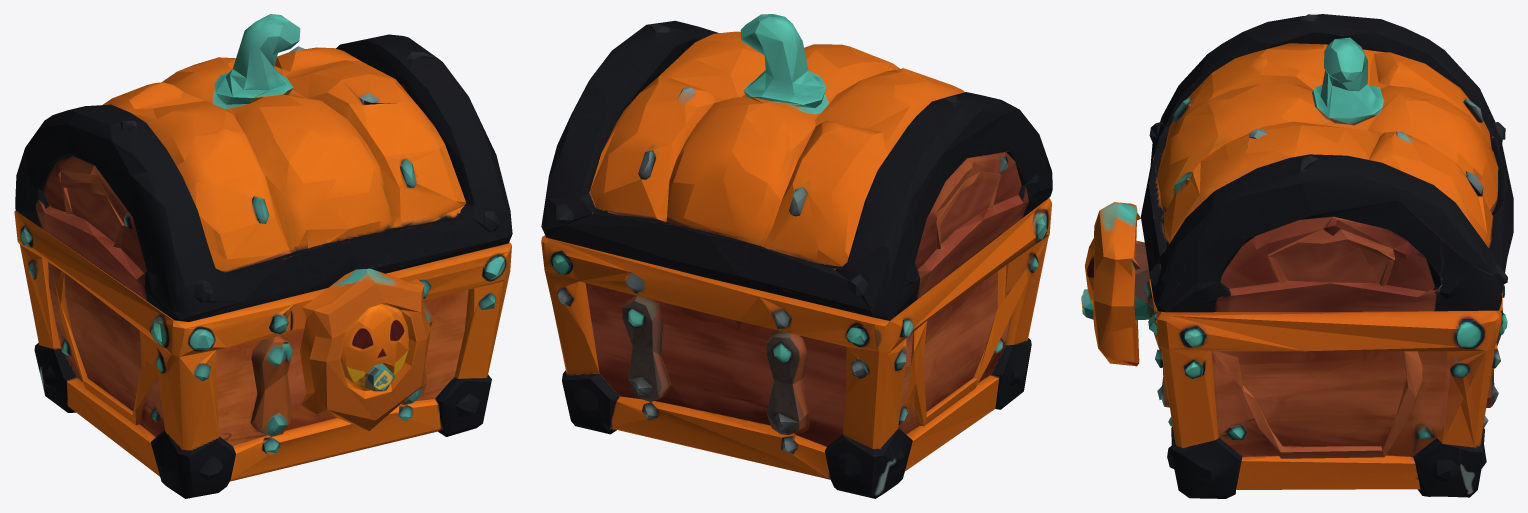
Rendered from hw-chest.glb.
3 views of the same model, side by side, from view 1: azimuth 30°, elevation 25°; view 2: azimuth 150°, elevation 25°; view 3: azimuth 270°, elevation 25° (orthographic). The views are drawn at different scales.
Size of the model in its own units: 1.8 by 1.89 by 1.88.
1 material, 1 textured.
